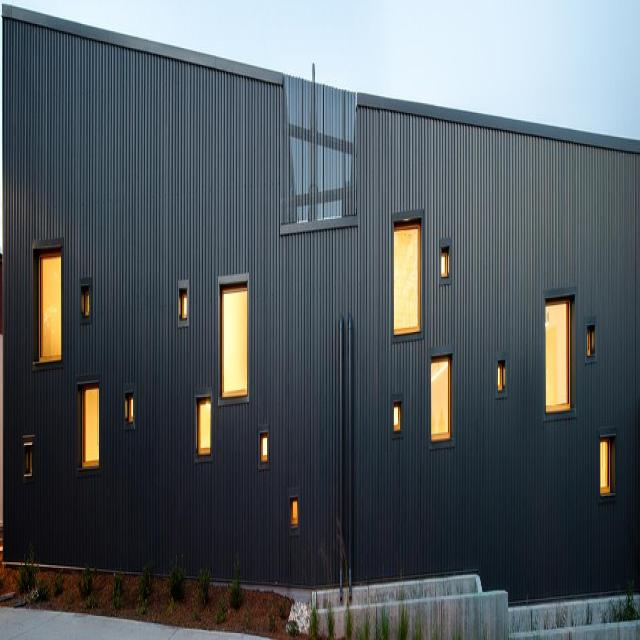window: (221, 286, 247, 390), (391, 225, 417, 327), (37, 246, 60, 356), (544, 302, 568, 406), (429, 358, 449, 435), (81, 383, 97, 460), (197, 396, 208, 455), (598, 440, 609, 491), (587, 330, 594, 362), (260, 433, 266, 459), (290, 496, 296, 522), (392, 402, 398, 426), (440, 251, 446, 274), (180, 290, 185, 316), (127, 396, 132, 418), (84, 288, 88, 312), (496, 363, 500, 387)
